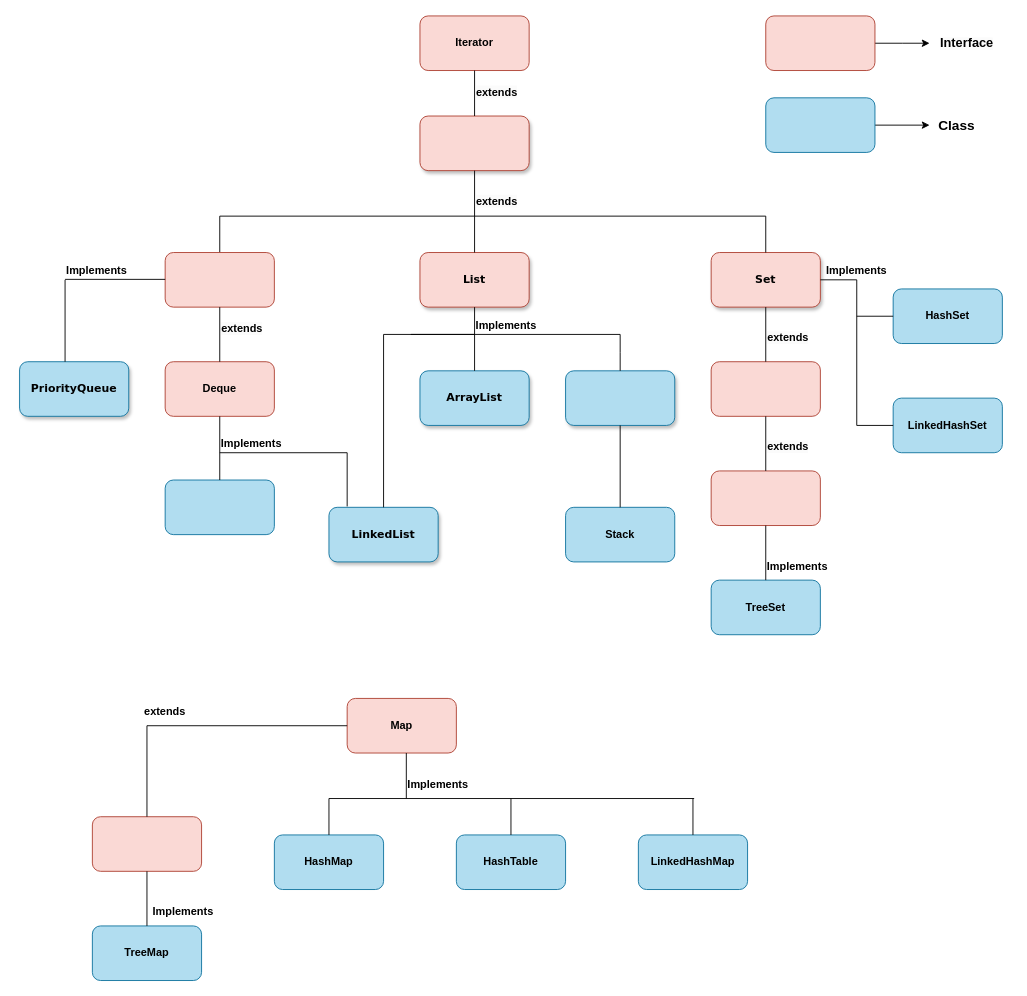
Some shapes in this 1027 by 996 pixel diagram are drawn without their labels. Each missing label, with the centre of its shape:
"ArrayDeque" goes at (219,507).
"Collection" goes at (475,144).
"NavigableSet" goes at (765,498).
"Queue" goes at (219,279).
"SortedMap" goes at (146,843).
"SortedSet" goes at (765,388).
"Vector" goes at (620,399).
